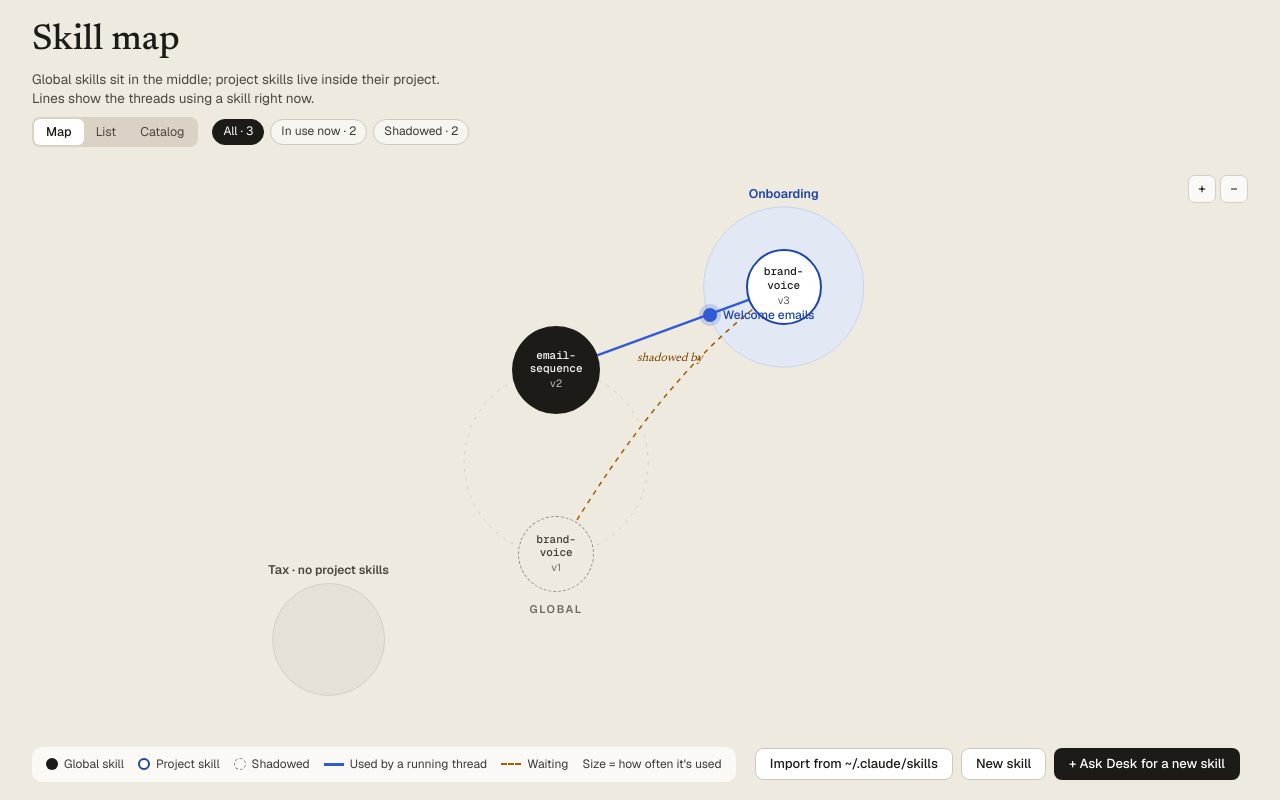
it: SkillsScreen › opens a skill with its change notes, compares versions and restores one
The image size is (1280, 800).
Click the button with aria-label "email-sequence, global": (556,370) [512, 326, 600, 414]
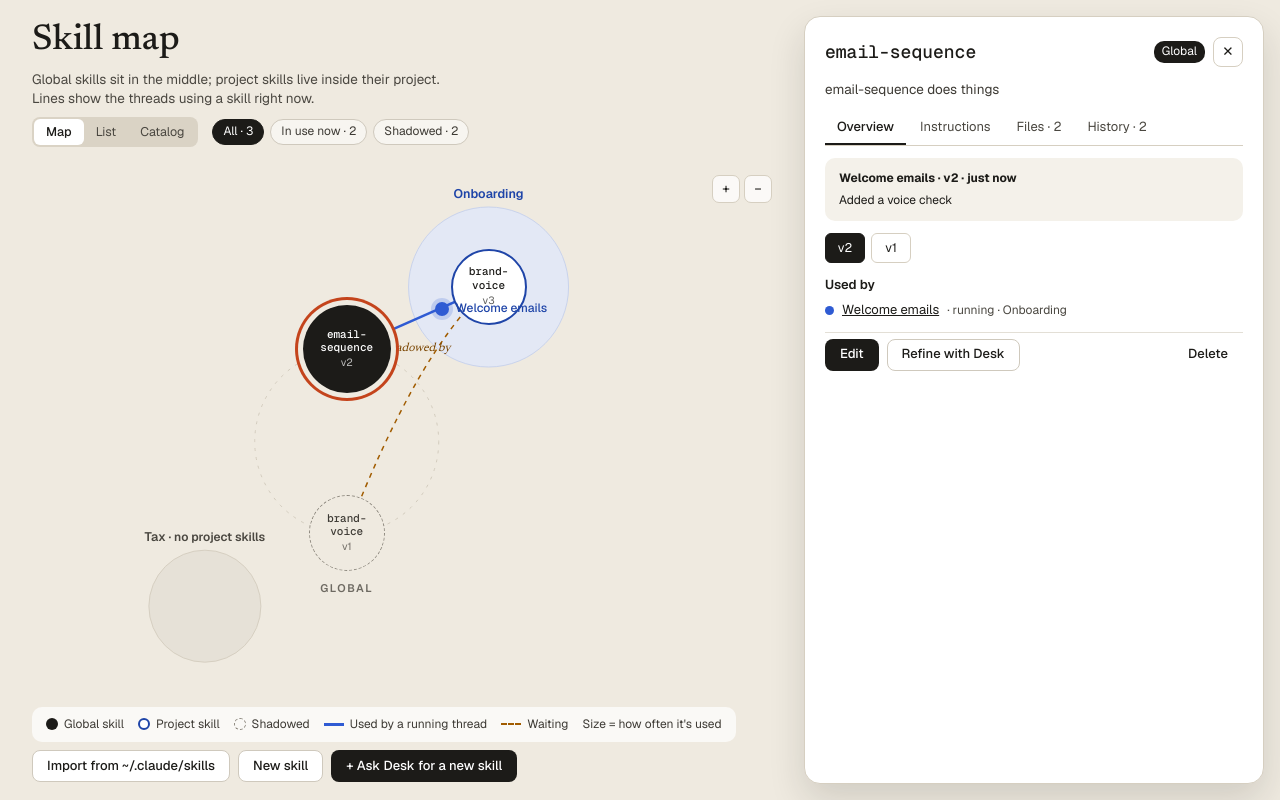
Check: the text "Added a voice check" is shown, box [839, 192, 952, 208]
Check: the element named "Skill email-sequence" shows "Welcome emails", box [839, 170, 935, 186]
Click the tab "History · 2": (1117,128) [1076, 111, 1159, 145]
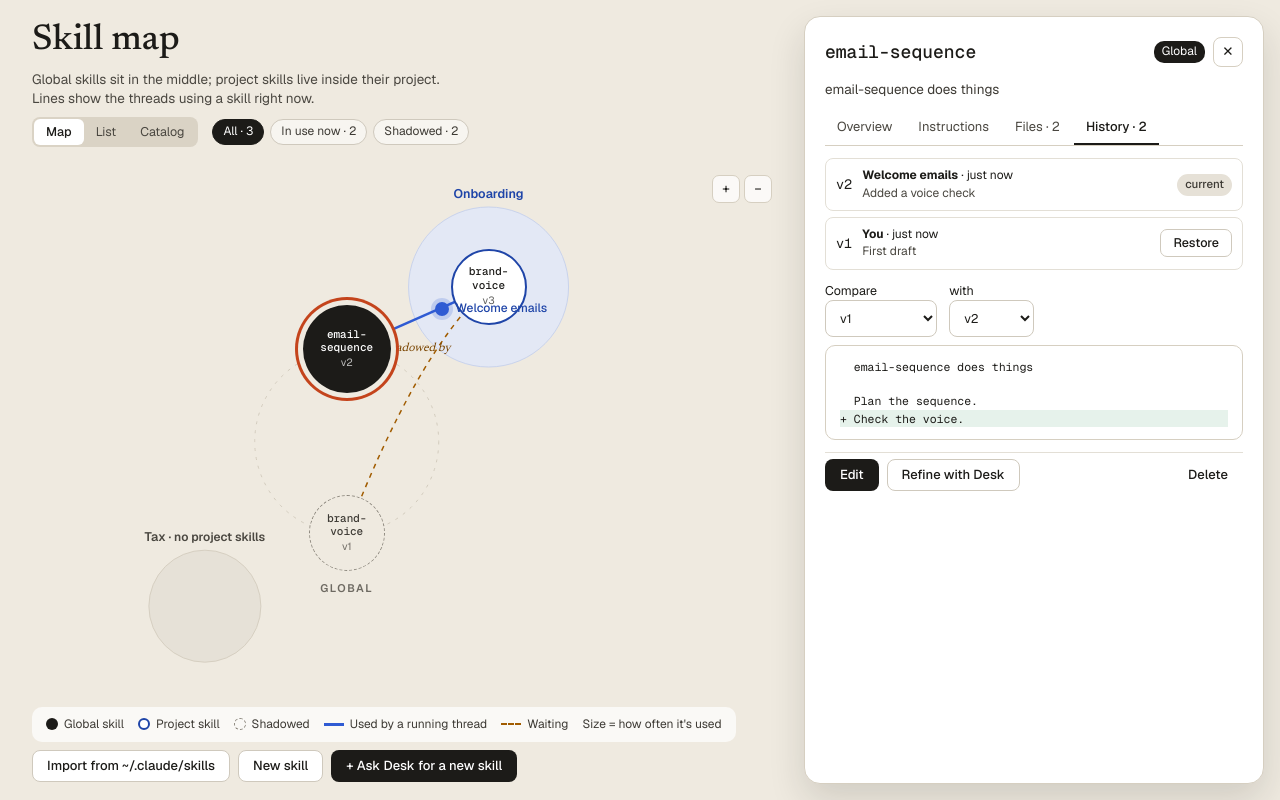
Check: the element named "Changes from v1 to v2" shows "+ Check the voice.", box [825, 345, 1243, 440]
Click the button "Restore": (1196,243) [1160, 229, 1232, 257]
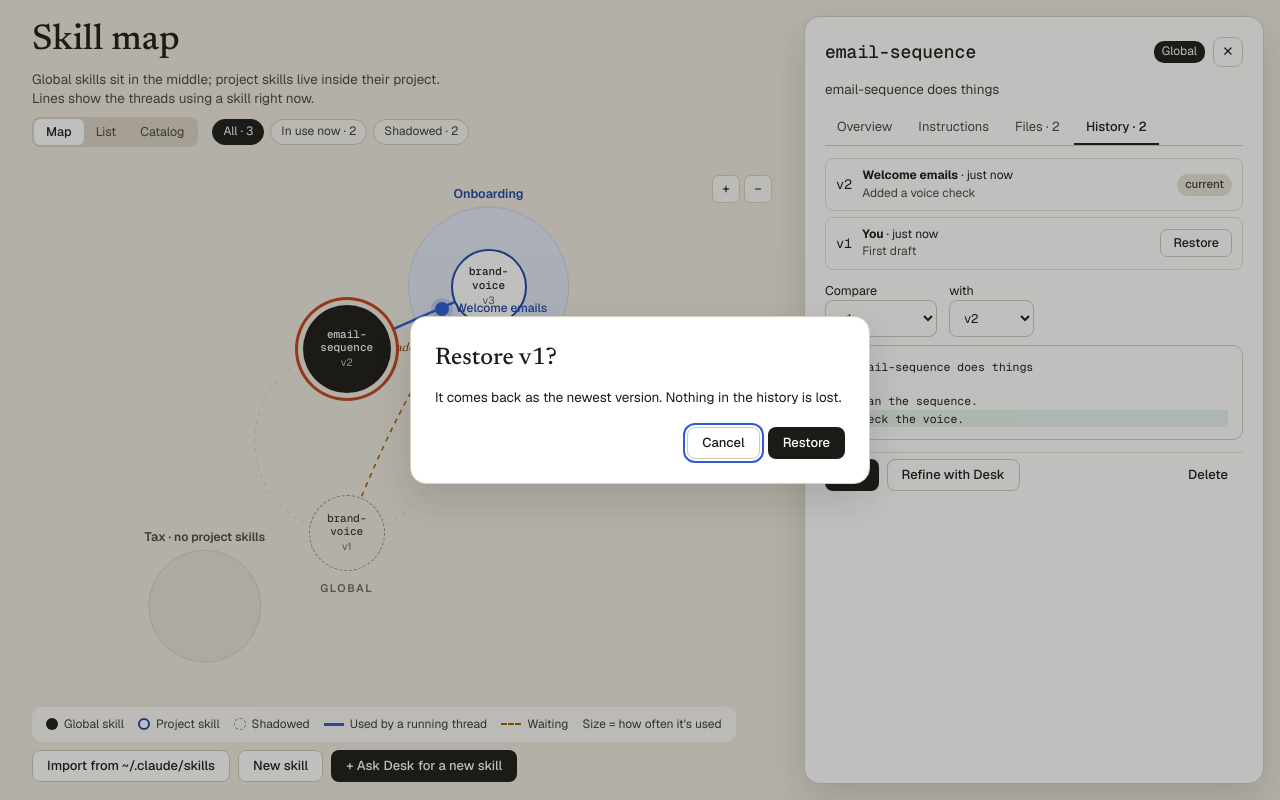
Click the button "Restore": (806,443) [768, 427, 845, 459]
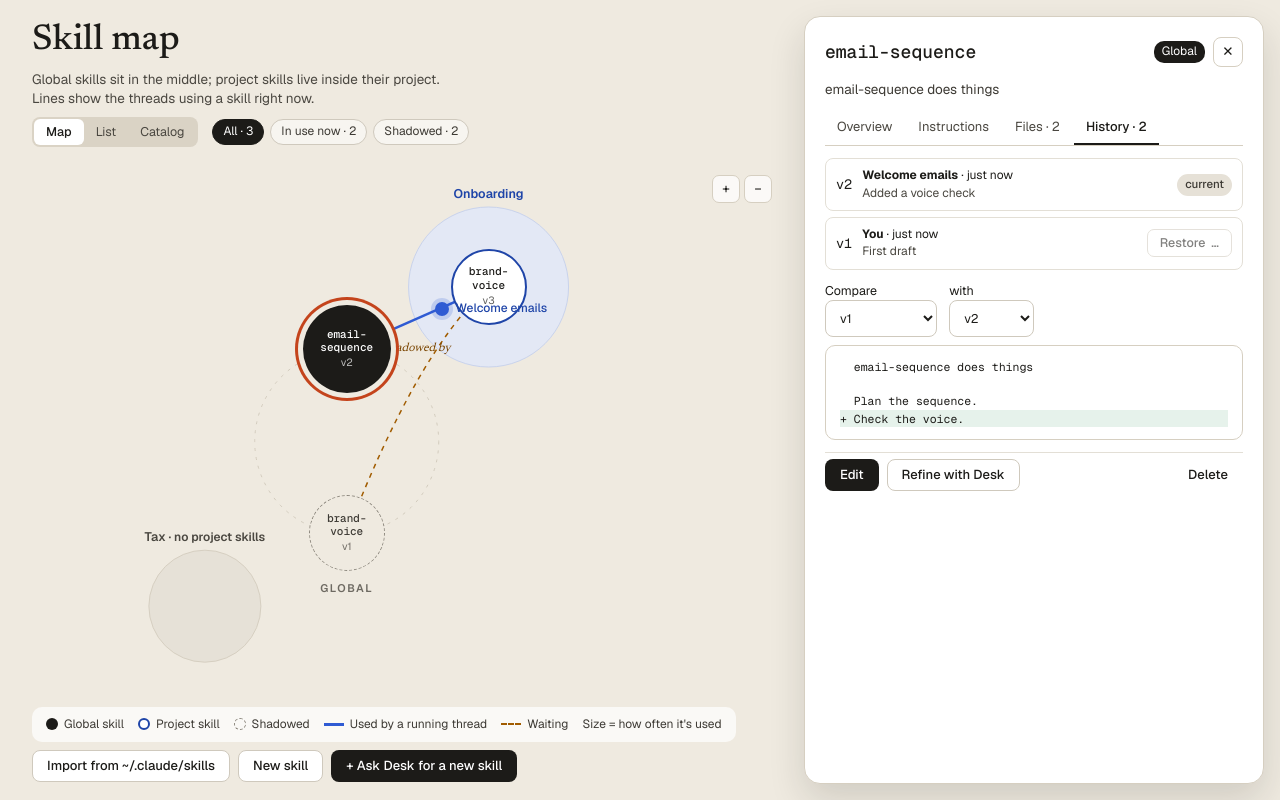
Click the tab "Files · 2": (1037,128) [1003, 111, 1072, 145]
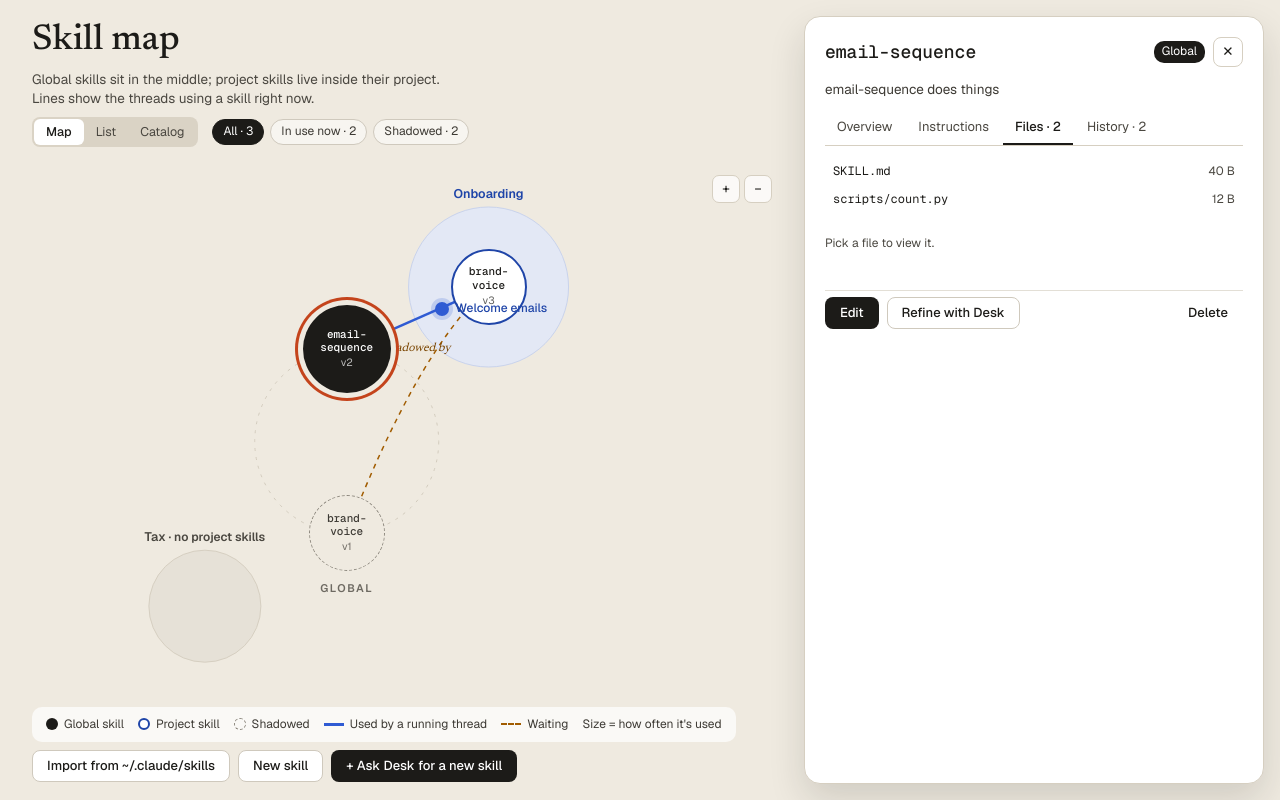
Click the button "scripts/count.py 12 B": (891,199) [825, 186, 1243, 213]
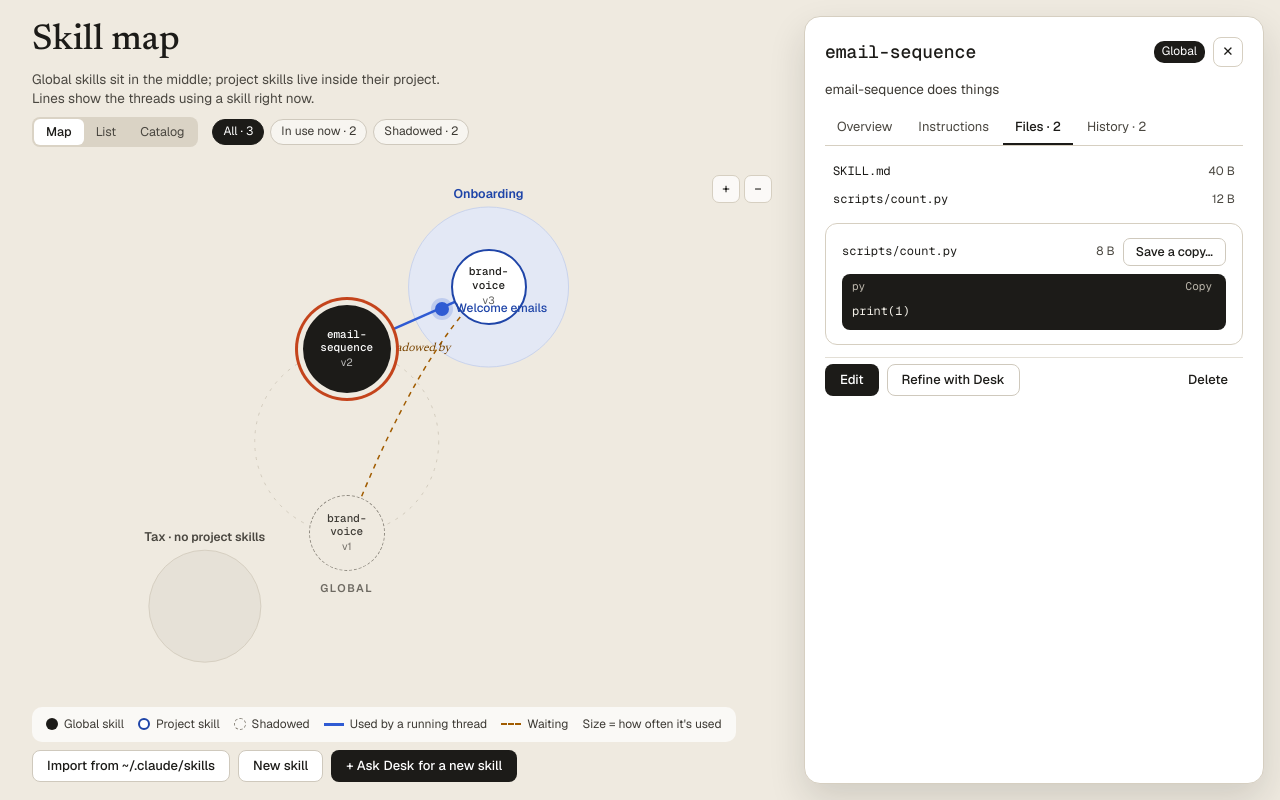
Check: the text "print(1)" is shown, box [852, 303, 910, 319]
